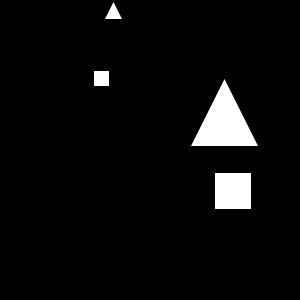circle: (215, 173, 251, 209), (94, 71, 109, 86)
triangle: (191, 79, 258, 146), (105, 2, 122, 19)
